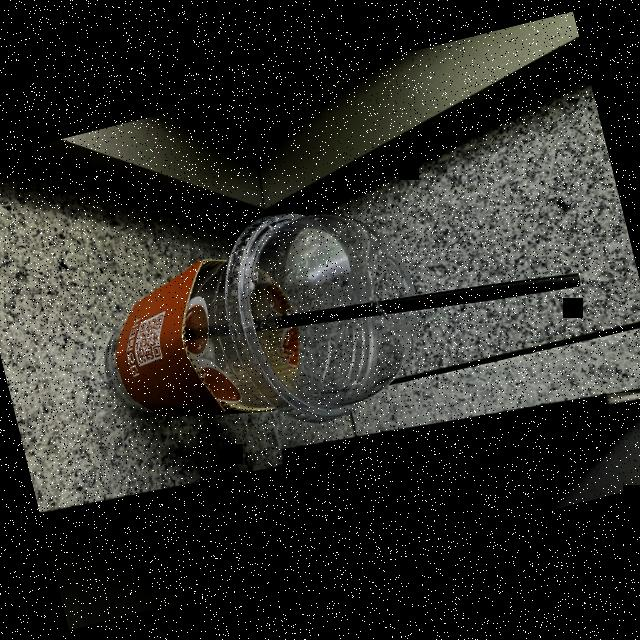plastic_cup: (73, 174, 440, 470)
plastic_cup_lid: (202, 176, 442, 440)
straw: (187, 226, 583, 388)
